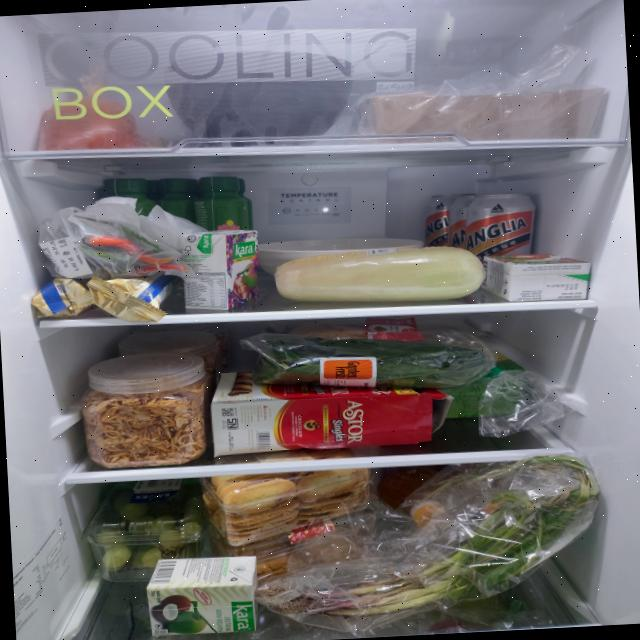chili: (71, 204, 188, 279)
coconut_milk: (144, 554, 262, 638), (182, 228, 264, 312), (478, 251, 592, 305)
corn: (273, 243, 488, 310)
grape: (92, 485, 208, 573)
spring_onion: (250, 452, 607, 622), (251, 326, 487, 398)
